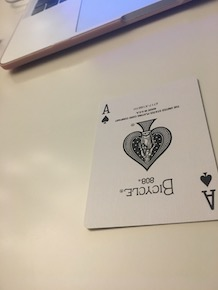AceOfSpades: (79, 76, 218, 232)
